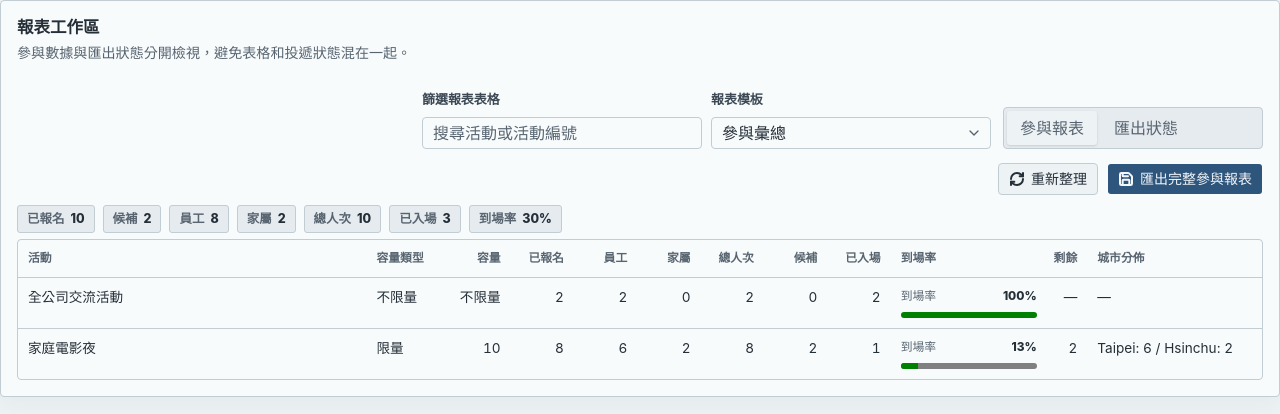
HrReportsPage › summarizes participation rows and filters by report preset
Check: the link "家庭電影夜" is shown, box left=28, top=340, right=96, bottom=356
Check: the text "Taipei: 6 / Hsinchu: 2" is shown, box left=1087, top=328, right=1262, bottom=378
Click the dropdown named "報表模板".
click(754, 133)  # box left=711, top=117, right=991, bottom=149
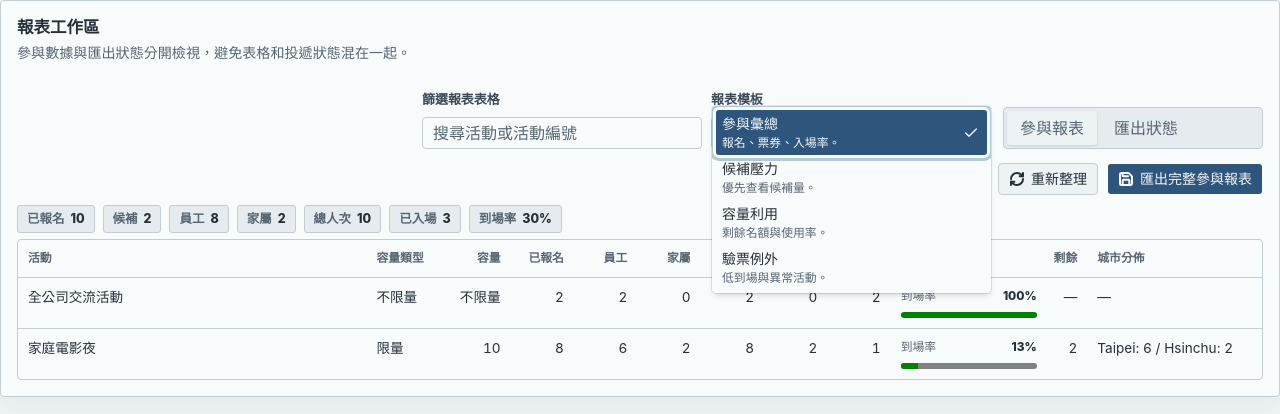
Click the option "驗票例外 低到場與異常活動。".
click(775, 267)  # box left=722, top=250, right=828, bottom=285
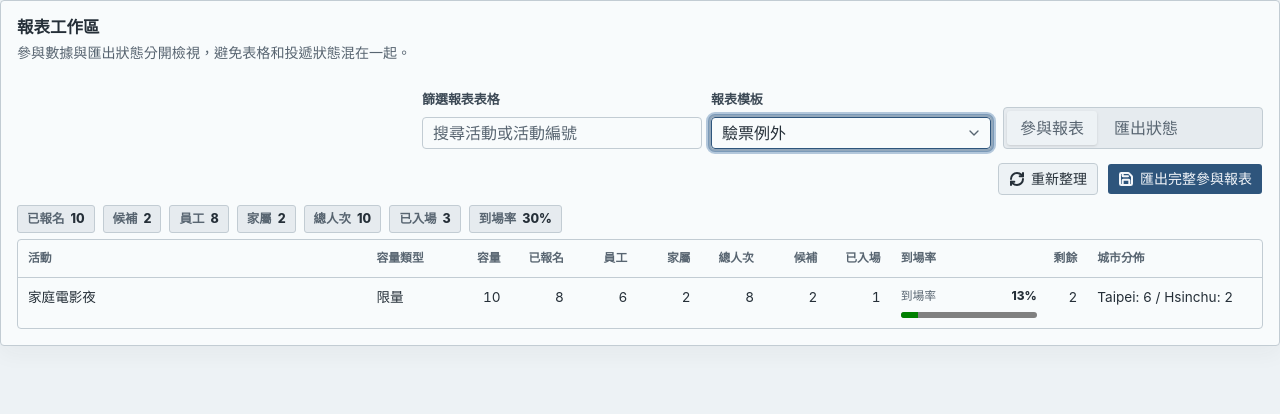
Check: the link "家庭電影夜" is shown, box left=28, top=289, right=96, bottom=305
Check: the link "全公司交流活動" is gone
Type "missing" into the field labelled "篩選報表表格".
click(562, 133); type("missing")  # box left=422, top=117, right=702, bottom=149
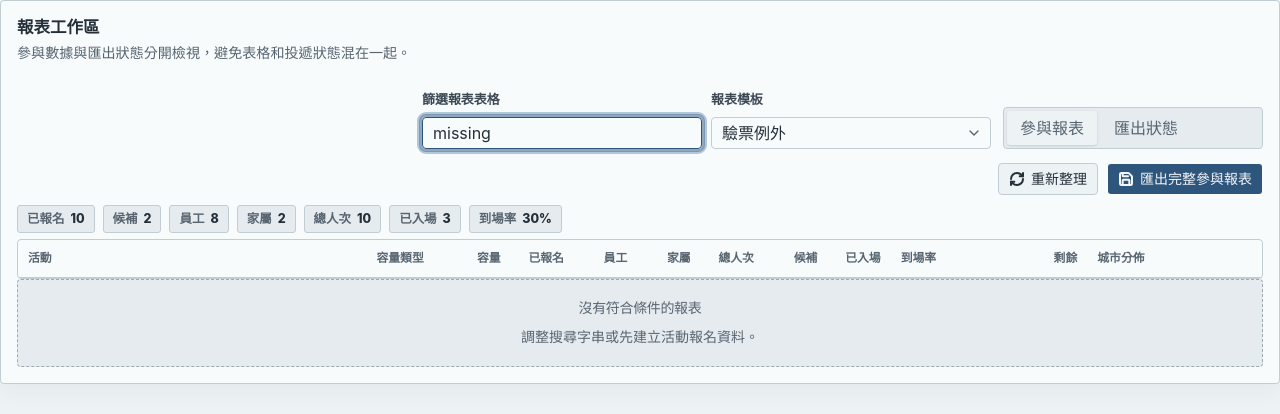
Check: the text "沒有符合條件的報表" is shown, box left=579, top=298, right=702, bottom=318
